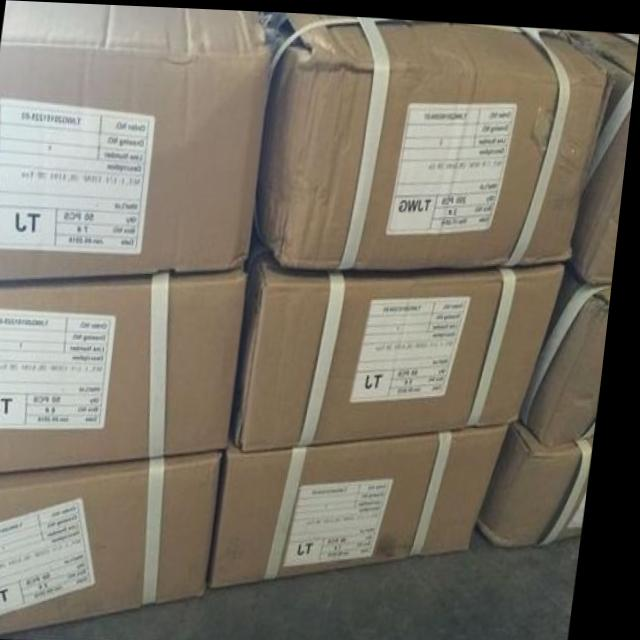box: (256, 9, 615, 265), (0, 0, 274, 281), (239, 216, 569, 447), (0, 262, 252, 468), (222, 417, 518, 586), (0, 447, 236, 636), (560, 25, 640, 280), (527, 258, 618, 445), (487, 415, 602, 540)
